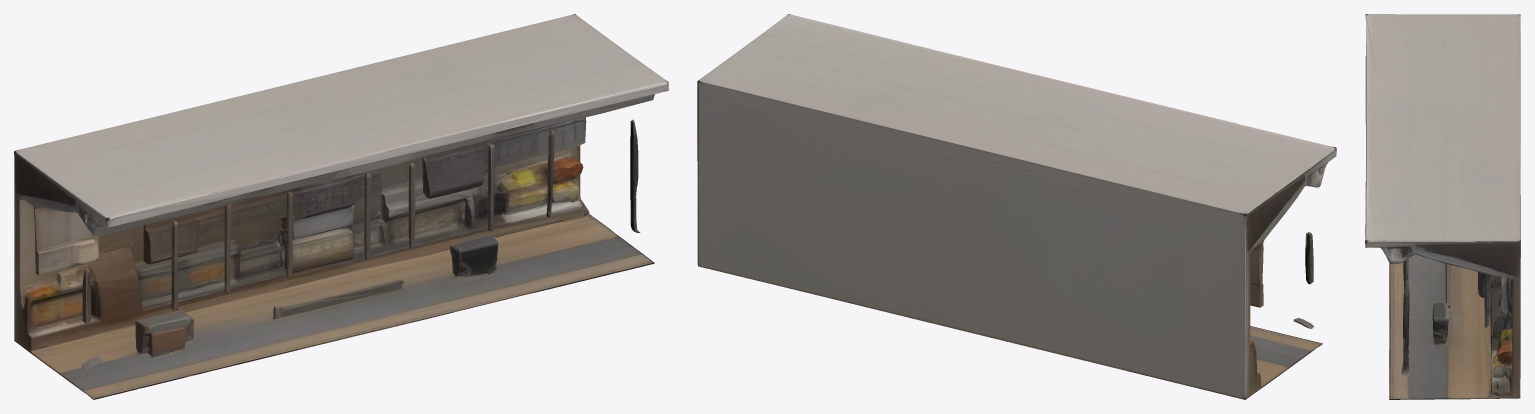
The picture shows the model from 3 angles, left to right: view 1: azimuth 30°, elevation 25°; view 2: azimuth 150°, elevation 25°; view 3: azimuth 270°, elevation 25°; orthographic projection. The views are drawn at different scales.
Visible parts, largest first — view 1: geometry_0; view 2: geometry_0; view 3: geometry_0.
Boxes of the visible parts, x1,y1,x2,y2 form: geometry_0: (14, 14, 668, 399); geometry_0: (697, 14, 1336, 399); geometry_0: (1365, 14, 1520, 399).
Size of the model in its own units: 1 by 0.3278 by 0.2901.
1 material, 1 textured.
